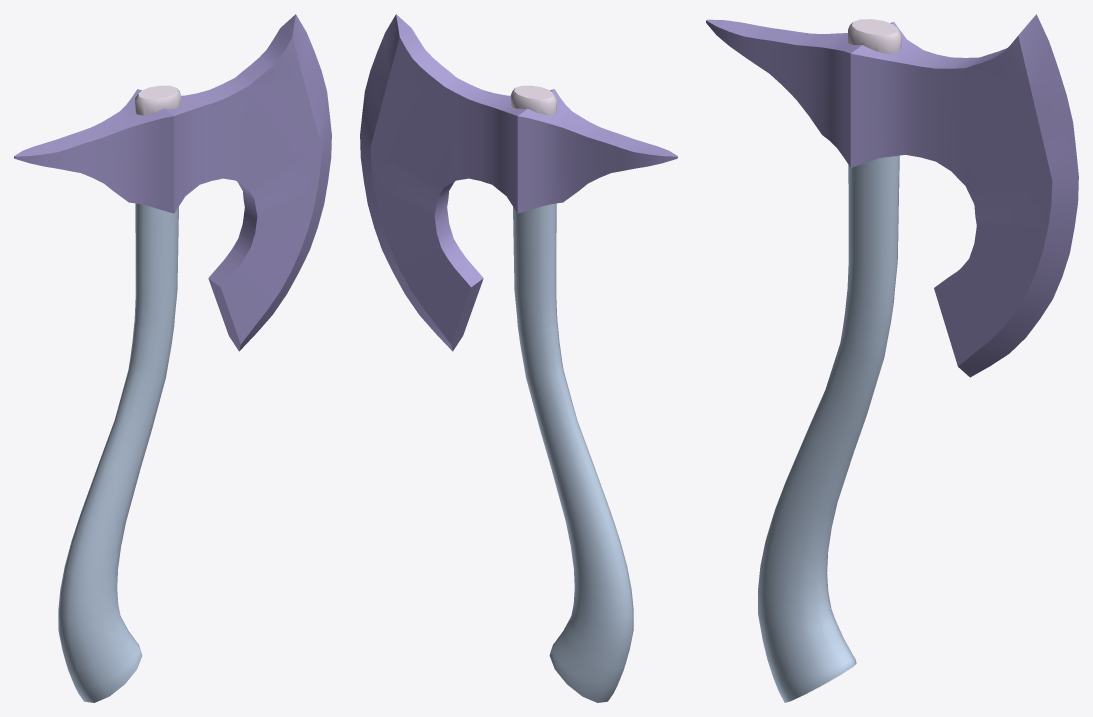
The picture shows the model from 3 angles, left to right: view 1: azimuth 30°, elevation 25°; view 2: azimuth 150°, elevation 25°; view 3: azimuth 330°, elevation 25°; orthographic projection. The views are drawn at different scales.
Visible parts, largest first — view 1: split_parent_0, 3_low.001_TT_checker_1024x1024_UV_GRID_0, 3_low.001_TT_checker_1024x1024_UV_GRID_0.001; view 2: split_parent_0, 3_low.001_TT_checker_1024x1024_UV_GRID_0, 3_low.001_TT_checker_1024x1024_UV_GRID_0.001; view 3: split_parent_0, 3_low.001_TT_checker_1024x1024_UV_GRID_0, 3_low.001_TT_checker_1024x1024_UV_GRID_0.001.
Boxes of the visible parts, bbox=[...] form: split_parent_0: bbox=[14, 14, 331, 351]; 3_low.001_TT_checker_1024x1024_UV_GRID_0: bbox=[58, 203, 178, 702]; 3_low.001_TT_checker_1024x1024_UV_GRID_0.001: bbox=[135, 85, 180, 115]; split_parent_0: bbox=[360, 14, 677, 351]; 3_low.001_TT_checker_1024x1024_UV_GRID_0: bbox=[513, 203, 633, 702]; 3_low.001_TT_checker_1024x1024_UV_GRID_0.001: bbox=[511, 85, 556, 115]; split_parent_0: bbox=[706, 14, 1078, 377]; 3_low.001_TT_checker_1024x1024_UV_GRID_0: bbox=[758, 155, 899, 702]; 3_low.001_TT_checker_1024x1024_UV_GRID_0.001: bbox=[848, 19, 901, 53].
Bounding box in the file's own units: 0.5223 × 1 × 0.1051.
